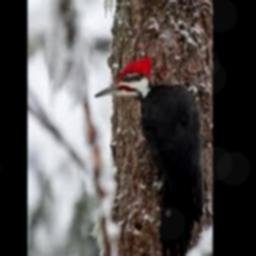Woodpecker: (95, 56, 200, 256)
